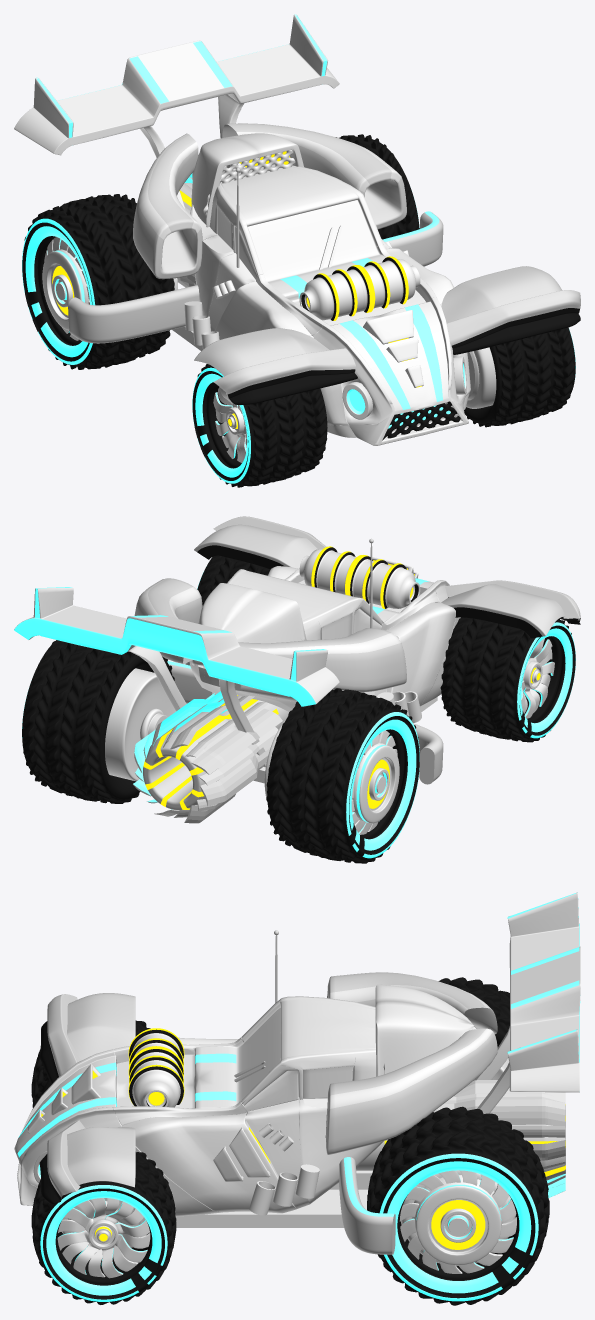
File: rocketleague_car.fbx
3 renders of one model, top to bottom at view 1: azimuth 30°, elevation 25°; view 2: azimuth 150°, elevation 25°; view 3: azimuth 270°, elevation 25°, orthographic. The views are drawn at different scales.
Parts seen in each view (by area): view 1: Car, Cube.003, Cube.011, Cube.008, Cylinder.001, Cube.020, Cube.010, NurbsPath.005, Cylinder.003, Cube.007, Cube.005, Cube.014 (+6 smaller); view 2: Cube.008, Cube.003, Cube.011, Car, Cylinder.001, Cube.010, Cube.005, Cube.007, Cylinder.007, Cylinder.003, Plane.011, Plane.009 (+9 smaller); view 3: Car, Cube.008, Cube.003, Cylinder.001, Cube.011, Cube.010, Cube.007, Cube.005, Cube.020, Cylinder.003, Cube.004, NurbsPath.005 (+14 smaller).
Boxes of the visible parts, x1,y1,x2,y2 form: Car: (190, 164, 470, 445); Cube.003: (14, 14, 339, 209); Cube.011: (192, 327, 575, 487); Cube.008: (22, 134, 419, 369); Cylinder.001: (133, 123, 406, 279); Cube.020: (213, 290, 580, 404); Cube.010: (194, 266, 562, 376); NurbsPath.005: (68, 211, 443, 343); Cylinder.003: (299, 256, 420, 320); Cube.007: (191, 133, 303, 227); Cube.005: (42, 249, 177, 330); Cube.014: (466, 347, 496, 408); Cube.008: (22, 640, 419, 863); Cube.003: (14, 587, 339, 767); Cube.011: (197, 555, 575, 742); Car: (189, 566, 460, 711); Cylinder.001: (134, 578, 406, 692); Cube.010: (194, 524, 565, 638); Cube.005: (105, 668, 399, 823); Cube.007: (191, 583, 306, 665); Cylinder.007: (143, 695, 288, 810); Cylinder.003: (299, 546, 420, 608); Plane.011: (185, 702, 282, 774); Plane.009: (199, 727, 278, 806); Car: (14, 996, 383, 1216); Cube.008: (367, 977, 549, 1305); Cube.003: (474, 892, 580, 1113); Cylinder.001: (325, 972, 497, 1154); Cube.011: (31, 1020, 176, 1304); Cube.010: (67, 993, 135, 1187); Cube.007: (375, 984, 476, 1076); Cube.005: (401, 1058, 515, 1265); Cube.020: (39, 994, 85, 1204); Cylinder.003: (128, 1028, 184, 1107); Cube.004: (175, 1189, 367, 1227); NurbsPath.005: (339, 1157, 395, 1254).
Bounding box in the file's own units: 332 × 211 × 408.
